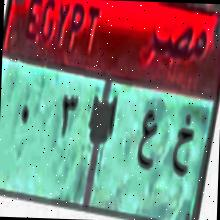0: (18, 96, 32, 134)
3: (58, 88, 78, 145)
ain: (136, 104, 162, 182)
alif: (108, 86, 120, 145)
khaa: (168, 107, 194, 188)
